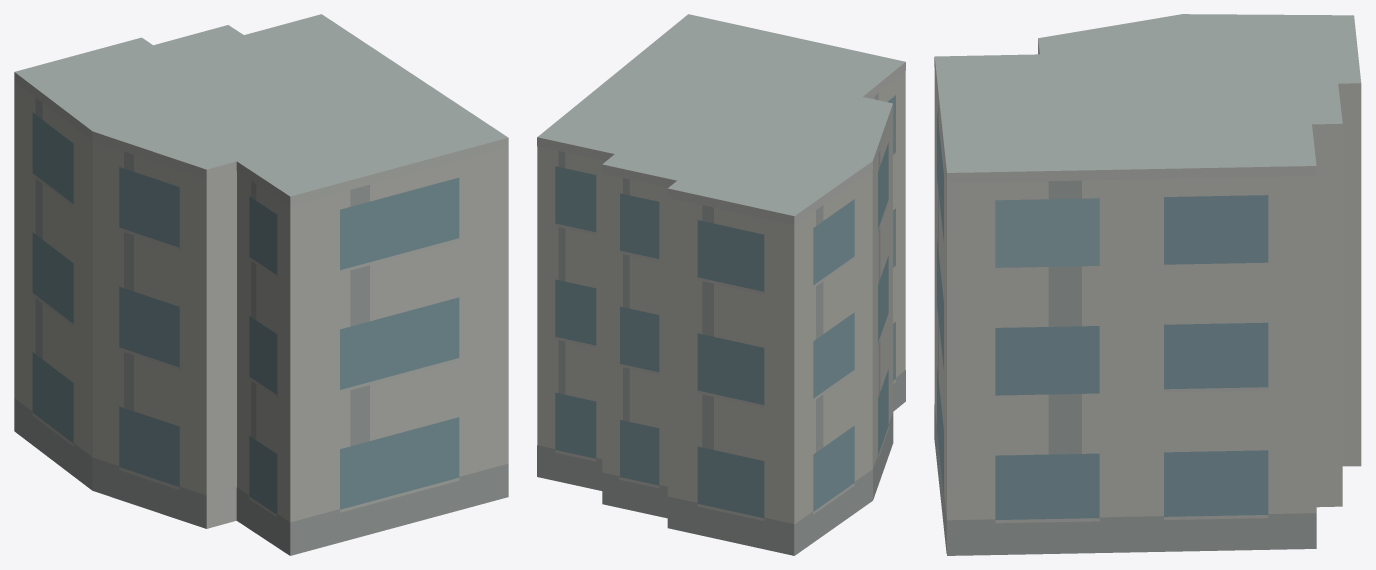
Rendered from residential-2e121636-dca7-4d6a-8c65-cb9c016ce113.glb.
3 views of the same model, side by side, from view 1: azimuth 30°, elevation 25°; view 2: azimuth 150°, elevation 25°; view 3: azimuth 270°, elevation 25° (orthographic). The views are drawn at different scales.
Parts seen in each view (by area): view 1: residential-2e121636-dca7-4d6a-8c65-cb9c016ce113.tmp; view 2: residential-2e121636-dca7-4d6a-8c65-cb9c016ce113.tmp; view 3: residential-2e121636-dca7-4d6a-8c65-cb9c016ce113.tmp.
Part boxes in pixels (left/top/right/bottom): residential-2e121636-dca7-4d6a-8c65-cb9c016ce113.tmp: left=14, top=14, right=508, bottom=555; residential-2e121636-dca7-4d6a-8c65-cb9c016ce113.tmp: left=537, top=14, right=905, bottom=555; residential-2e121636-dca7-4d6a-8c65-cb9c016ce113.tmp: left=934, top=14, right=1361, bottom=555.
Size of the model in its own units: 8.16 by 9.15 by 9.25.
